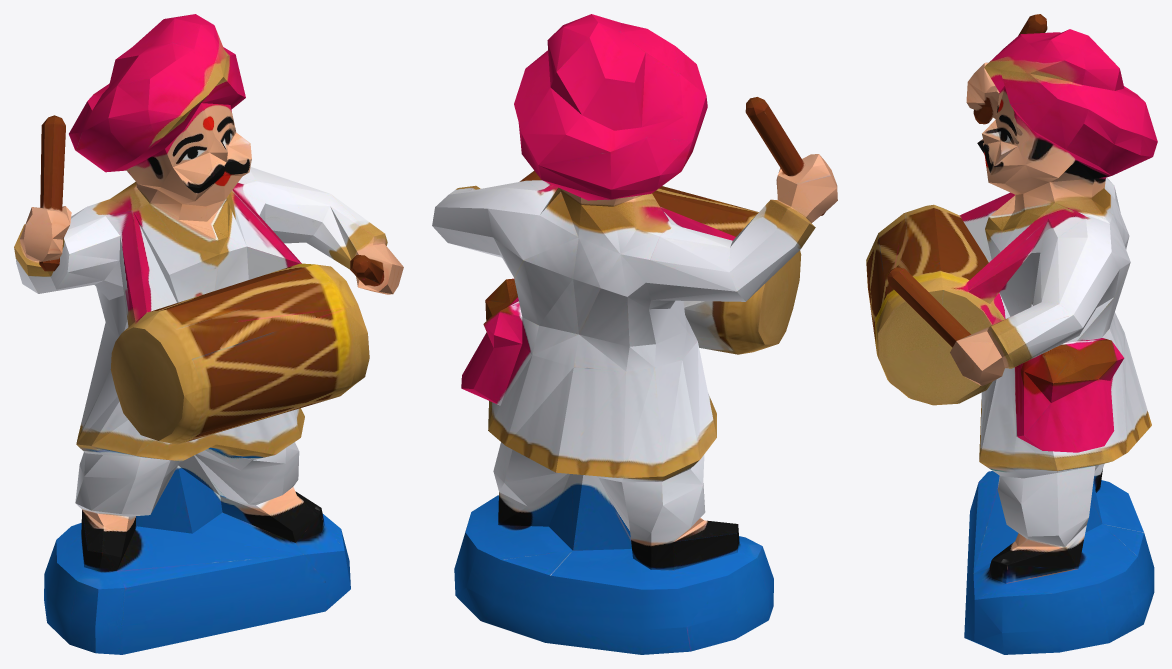
Rendered from Dhol Drummer .glb.
3 renders of one model, left to right at view 1: azimuth 30°, elevation 25°; view 2: azimuth 150°, elevation 25°; view 3: azimuth 270°, elevation 25°, orthographic. The views are drawn at different scales.
Parts seen in each view (by area): view 1: mesh_000; view 2: mesh_000; view 3: mesh_000.
Part boxes in pixels (box(x1,y1,x2,y2)): mesh_000: box(14, 14, 403, 654); mesh_000: box(432, 14, 837, 654); mesh_000: box(866, 14, 1157, 654).
Size of the model in its own units: 0.649 by 0.9521 by 0.4473.
1 material, 1 textured.
